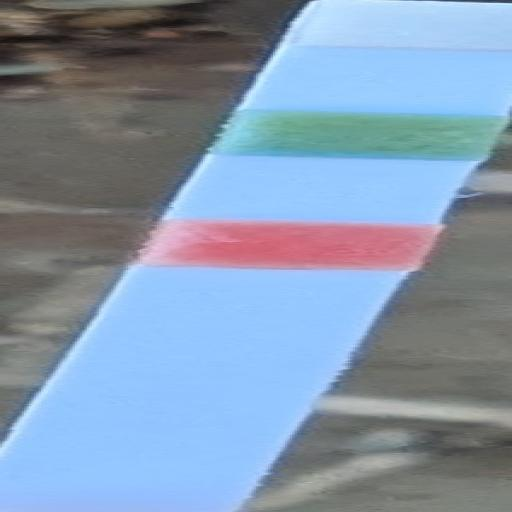pads: (188, 110, 512, 162), (145, 219, 437, 272), (285, 0, 512, 51)
